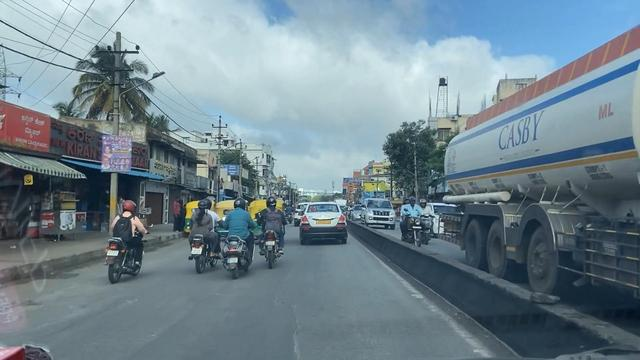LMV: (219, 197, 248, 285), (257, 198, 283, 282), (301, 202, 348, 247)
RoadDamages: (277, 304, 311, 358)
